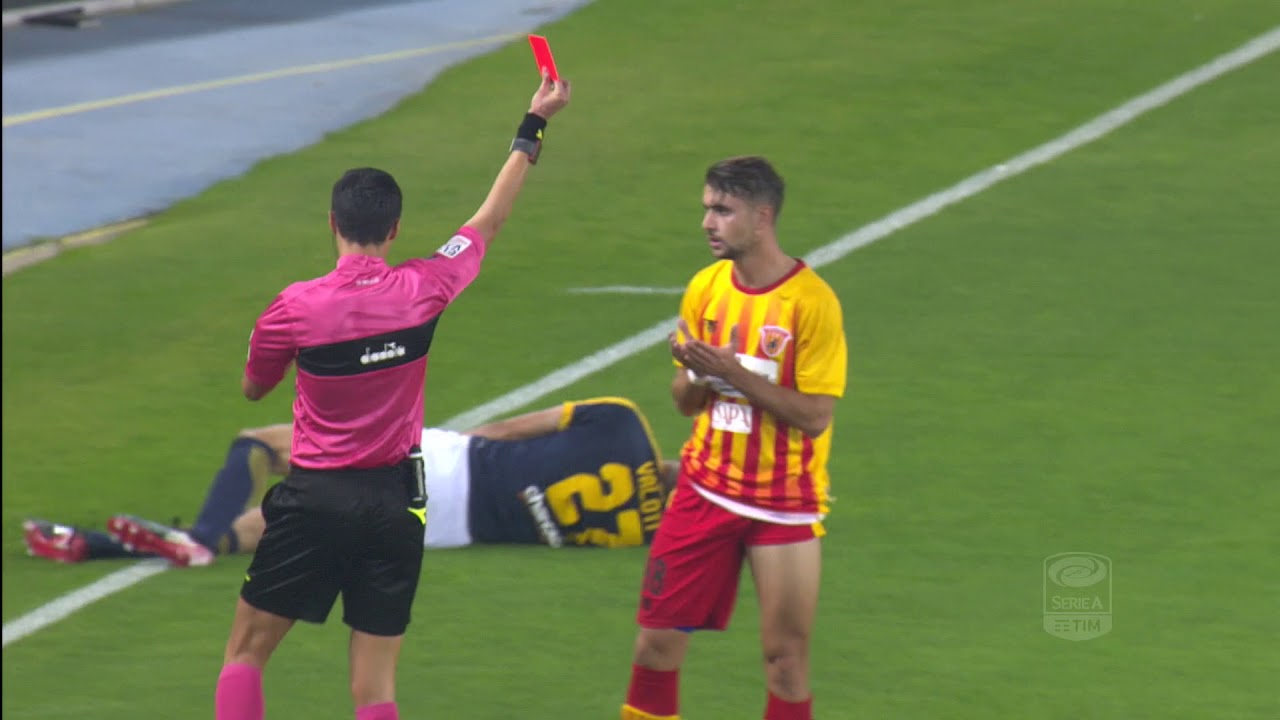red_card: (507, 19, 576, 121)
